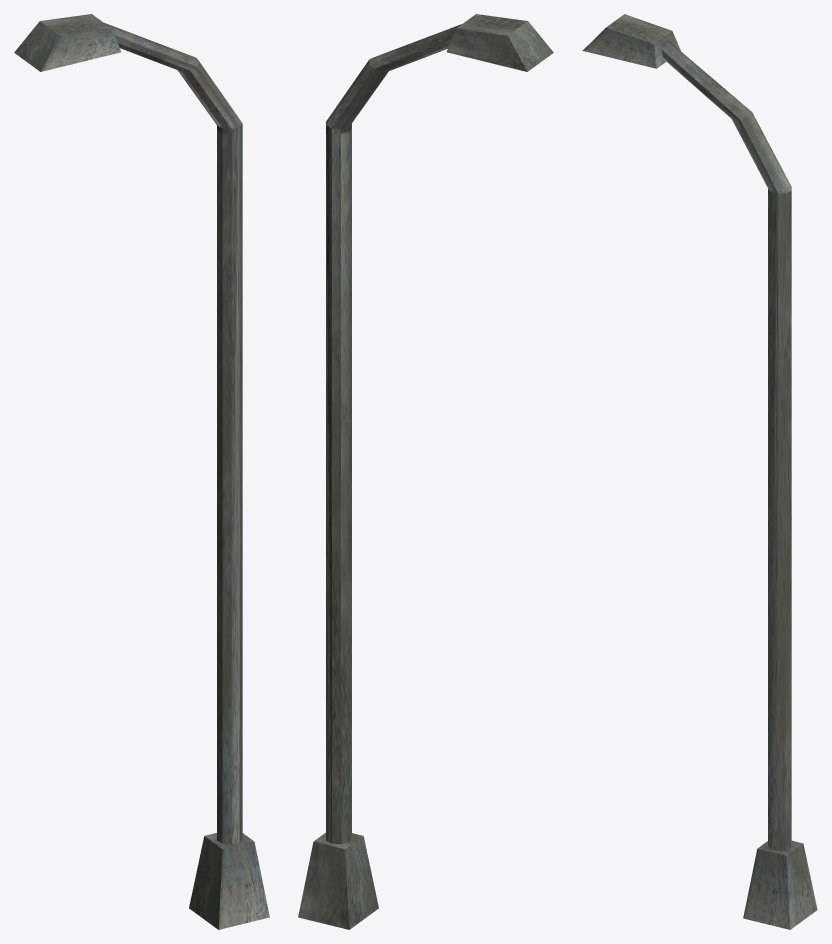
File: Lamppost.fbx
3 renders of one model, left to right at view 1: azimuth 30°, elevation 25°; view 2: azimuth 150°, elevation 25°; view 3: azimuth 330°, elevation 25°, orthographic. The views are drawn at different scales.
Parts seen in each view (by area): view 1: Cylinder.010, Cube.035, Cube.036; view 2: Cylinder.010, Cube.035, Cube.036; view 3: Cylinder.010, Cube.035, Cube.036.
Part boxes in pixels (box(x1,y1,x2,y2)): Cylinder.010: box(104, 23, 242, 844); Cube.035: box(189, 833, 269, 929); Cube.036: box(14, 14, 120, 71); Cylinder.010: box(326, 24, 461, 844); Cube.035: box(298, 832, 378, 929); Cube.036: box(447, 14, 553, 71); Cylinder.010: box(661, 40, 791, 850); Cube.035: box(743, 840, 817, 929); Cube.036: box(582, 14, 680, 68).
Size of the model in its own units: 68.31 by 266 by 15.4.
2 materials, 1 textured.
